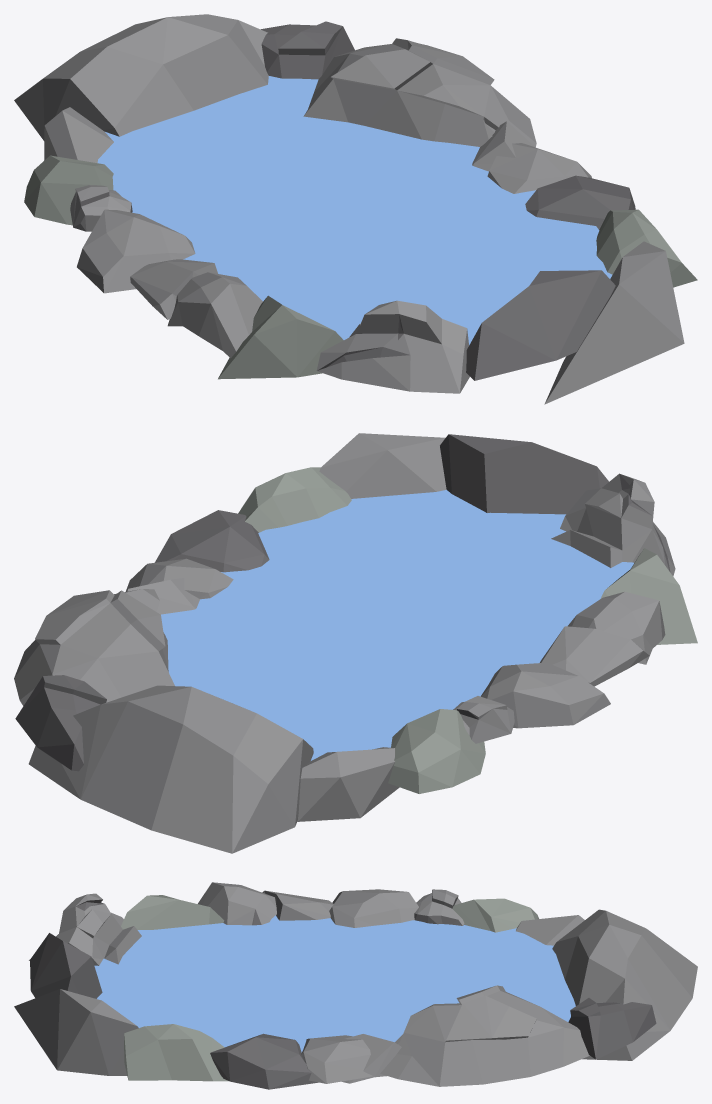
Rendered from Pond_02.glb.
3 renders of one model, top to bottom at view 1: azimuth 30°, elevation 25°; view 2: azimuth 150°, elevation 25°; view 3: azimuth 270°, elevation 25°, orthographic. The views are drawn at different scales.
Parts seen in each view (by area): view 1: Pond_02; view 2: Pond_02; view 3: Pond_02.
Boxes of the visible parts, box(x1,y1,x2,y2) form: Pond_02: box(14, 14, 697, 404); Pond_02: box(14, 433, 697, 853); Pond_02: box(14, 882, 697, 1089).
Size of what is drawn, in the model's own units: 4.84 by 1.04 by 7.43.
Materials: 1 (1 with a texture image).
